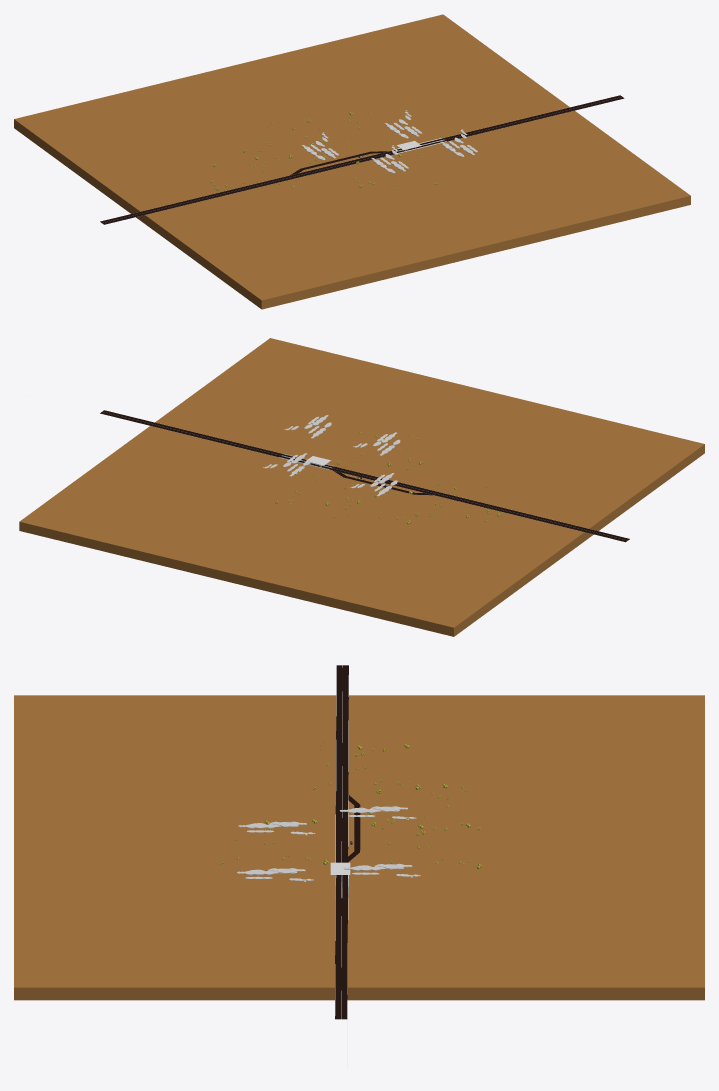
Rendered from border-station.glb.
The picture shows the model from 3 angles, top to bottom: view 1: azimuth 30°, elevation 25°; view 2: azimuth 150°, elevation 25°; view 3: azimuth 270°, elevation 25°; orthographic projection. The views are drawn at different scales.
Visible parts, largest first — view 1: Cube.024, Plane.001, Plane.005; view 2: Cube.024, Plane.005, Plane.001; view 3: Cube.024, Plane.005, Plane.001.
Boxes of the visible parts, x1,y1,x2,y2 form: Cube.024: [14, 14, 690, 309]; Plane.001: [102, 97, 624, 224]; Plane.005: [100, 95, 622, 222]; Cube.024: [19, 338, 704, 636]; Plane.005: [100, 412, 627, 542]; Plane.001: [102, 410, 629, 540]; Cube.024: [14, 695, 704, 1000]; Plane.005: [341, 665, 348, 1019]; Plane.001: [335, 665, 342, 1019].
Size of the model in its own units: 798 by 34.27 by 566.
19 materials, 11 textured.
